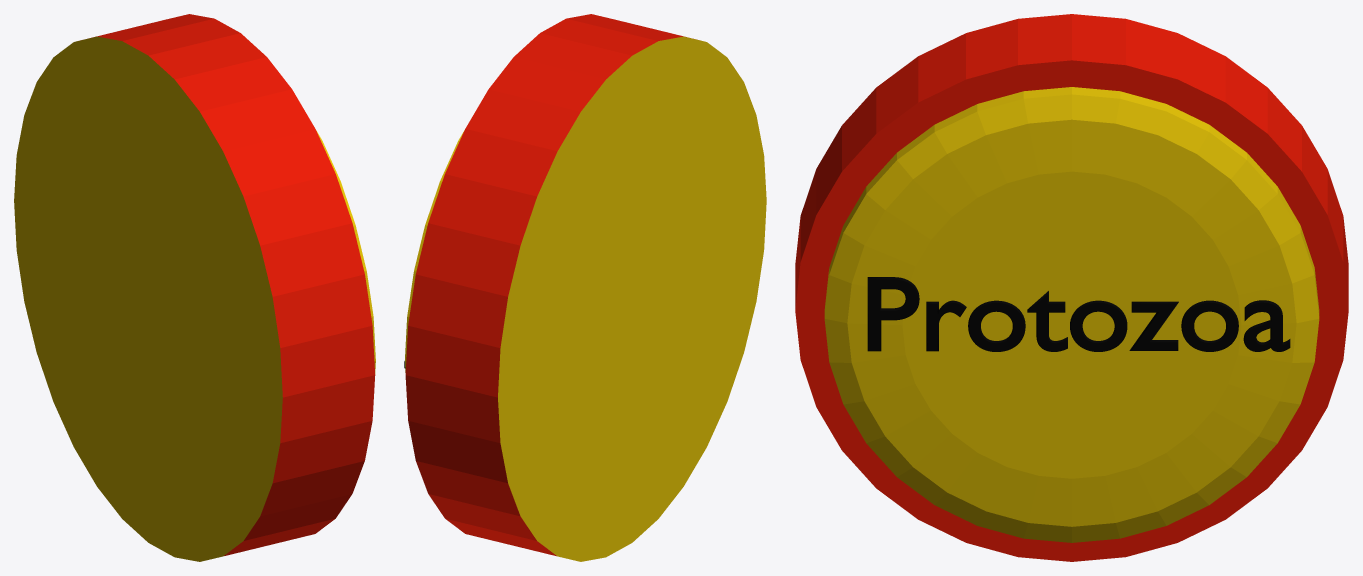
The model's file is proto button ..gltf.
3 renders of one model, left to right at view 1: azimuth 30°, elevation 25°; view 2: azimuth 150°, elevation 25°; view 3: azimuth 270°, elevation 25°, orthographic. The views are drawn at different scales.
Parts seen in each view (by area): view 1: Cylinder; view 2: Cylinder; view 3: Cylinder, Text.
Part boxes in pixels (x1=…): Cylinder: x1=14, y1=14, x2=375, y2=561; Cylinder: x1=405, y1=14, x2=766, y2=561; Cylinder: x1=795, y1=14, x2=1348, y2=561; Text: x1=867, y1=277, x2=1290, y2=351.
Size of the model in its own units: 0.5264 by 2 by 2.
